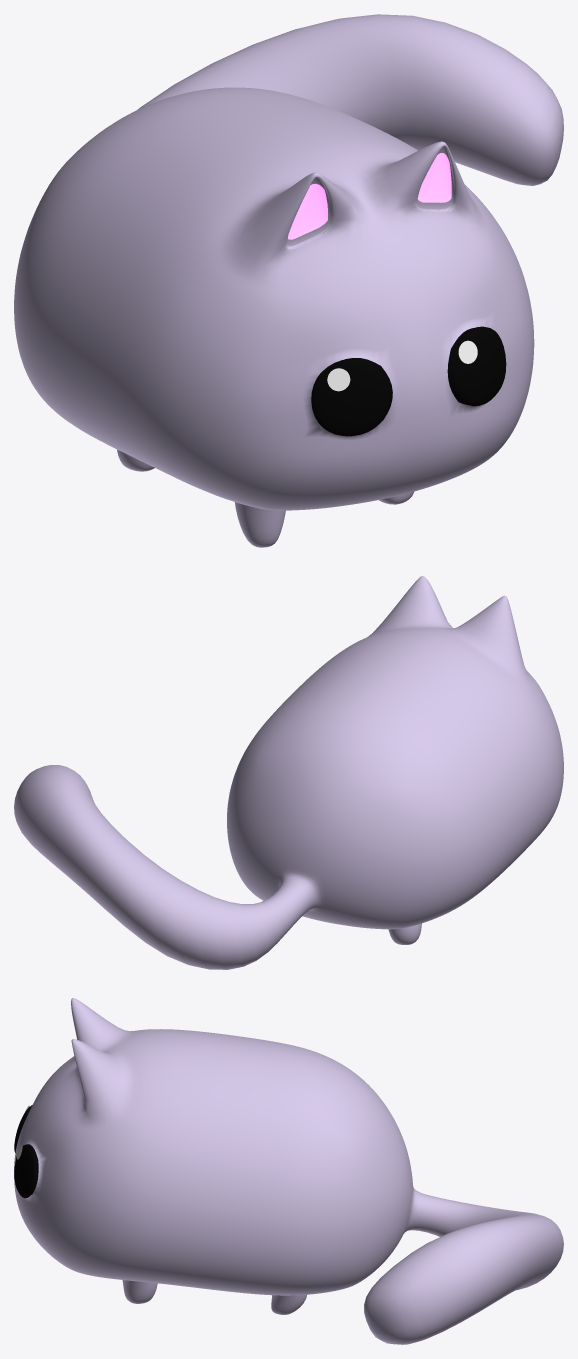
Rendered from ghostcat.fbx.
The picture shows the model from 3 angles, top to bottom: view 1: azimuth 30°, elevation 25°; view 2: azimuth 150°, elevation 25°; view 3: azimuth 270°, elevation 25°; orthographic projection. The views are drawn at different scales.
Parts seen in each view (by area): view 1: Roundcube; view 2: Roundcube; view 3: Roundcube.
Boxes of the visible parts, x1,y1,x2,y2 form: Roundcube: (14,14,563,547); Roundcube: (14,576,563,969); Roundcube: (14,998,563,1344).
Size of the model in its own units: 309 by 195 by 356.
